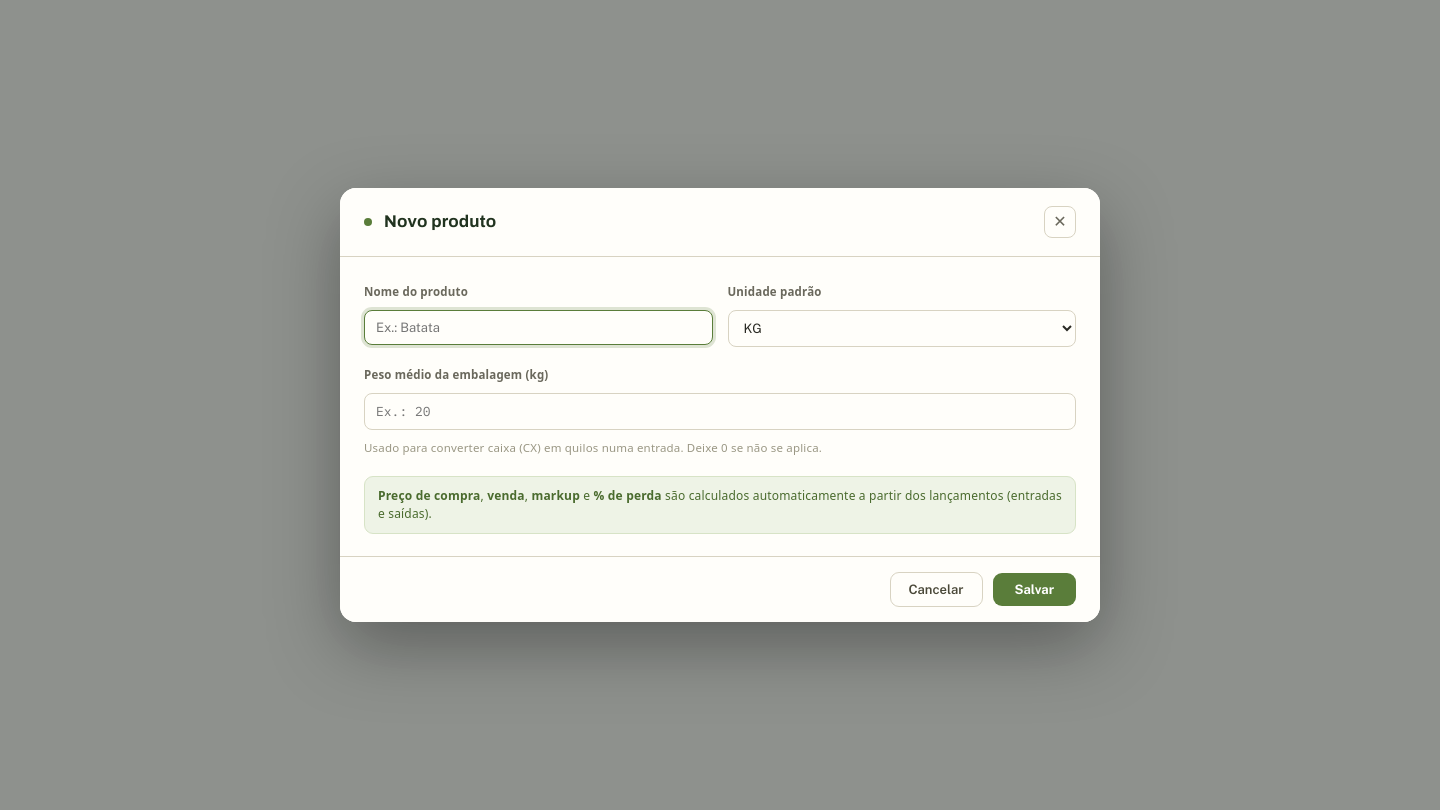
Test case: ModalProduto — 409 (nome duplicado) › mostra o erro no campo nome, nao como erro generico
Type "Batata" into the field labelled "Nome do produto" at (538, 328), box [364, 310, 712, 345]
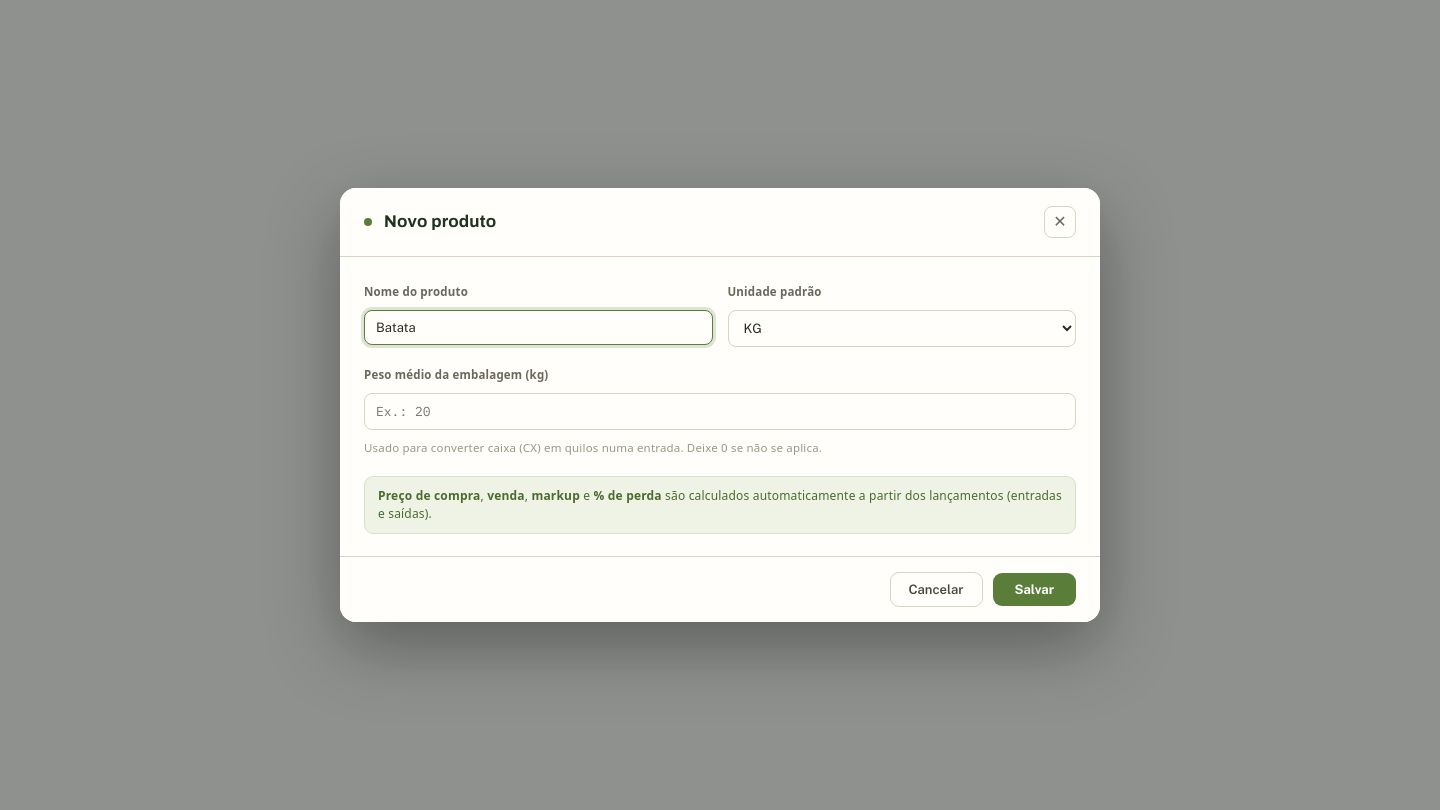
Click the button "Salvar" at (1034, 590), box [992, 573, 1076, 606]
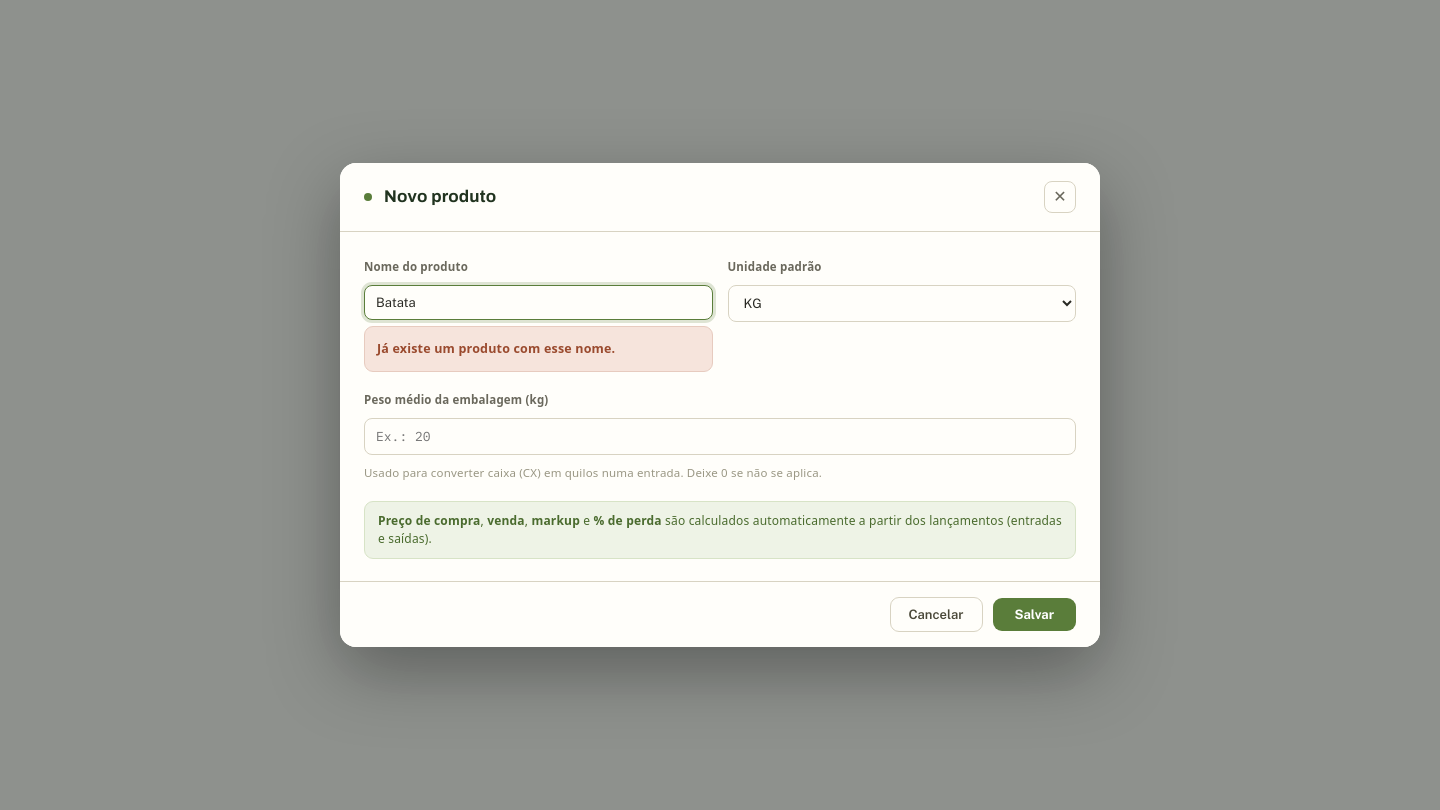
Expected: the message reads "Já existe um produto com esse nome.", [377, 340, 615, 357]
Expected: the number of messages is 1, [364, 326, 712, 372]
